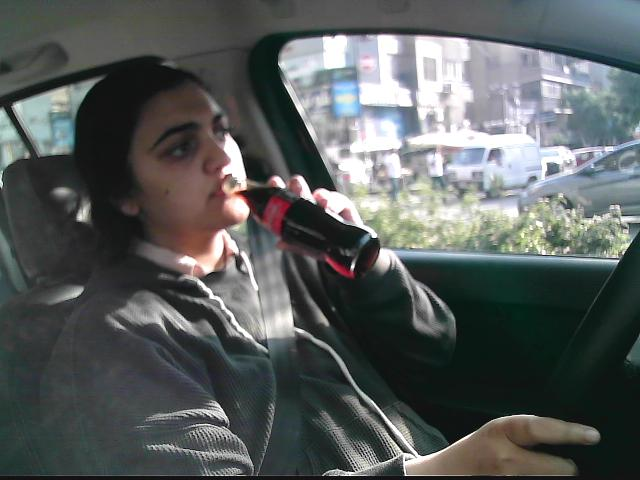Drinking: (105, 82, 379, 280)
